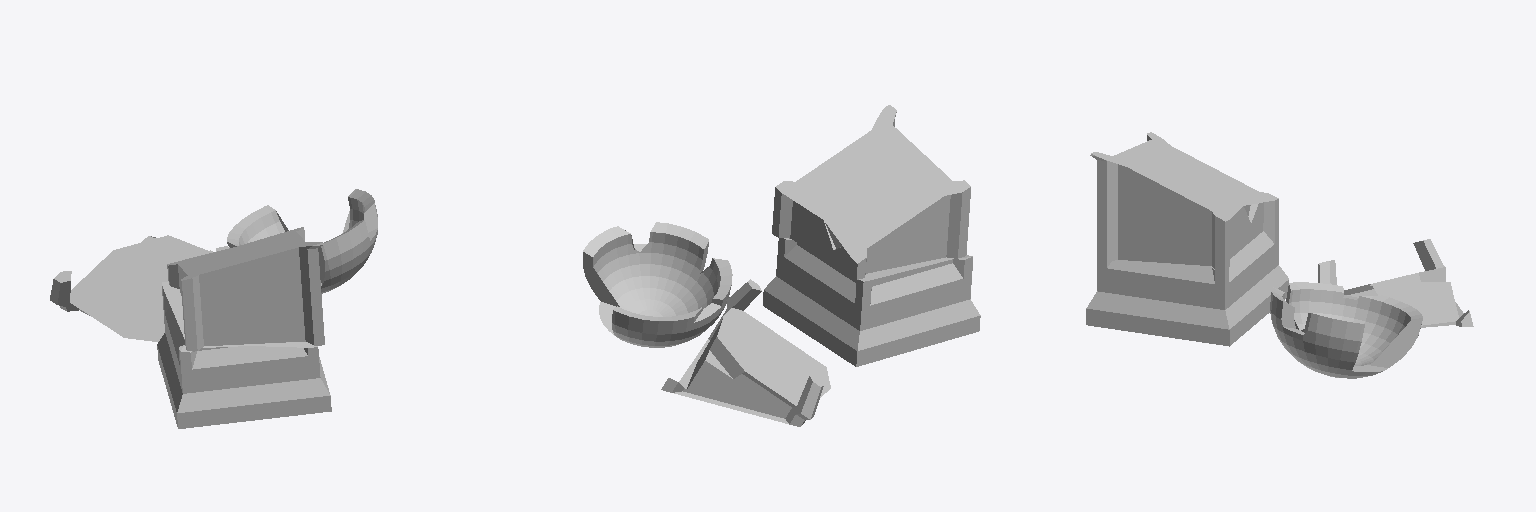
Rendered from Debris18.obj.
The picture shows the model from 3 angles: view 1: azimuth 30°, elevation 25°; view 2: azimuth 150°, elevation 25°; view 3: azimuth 270°, elevation 25°; orthographic projection.
Visible parts, largest first — view 1: Debris18; view 2: Debris18; view 3: Debris18.
Boxes of the visible parts, x1,y1,x2,y2 form: Debris18: [50, 189, 377, 428]; Debris18: [583, 105, 980, 426]; Debris18: [1086, 132, 1473, 378].
Size of the model in its own units: 9.83 by 5.74 by 11.3.